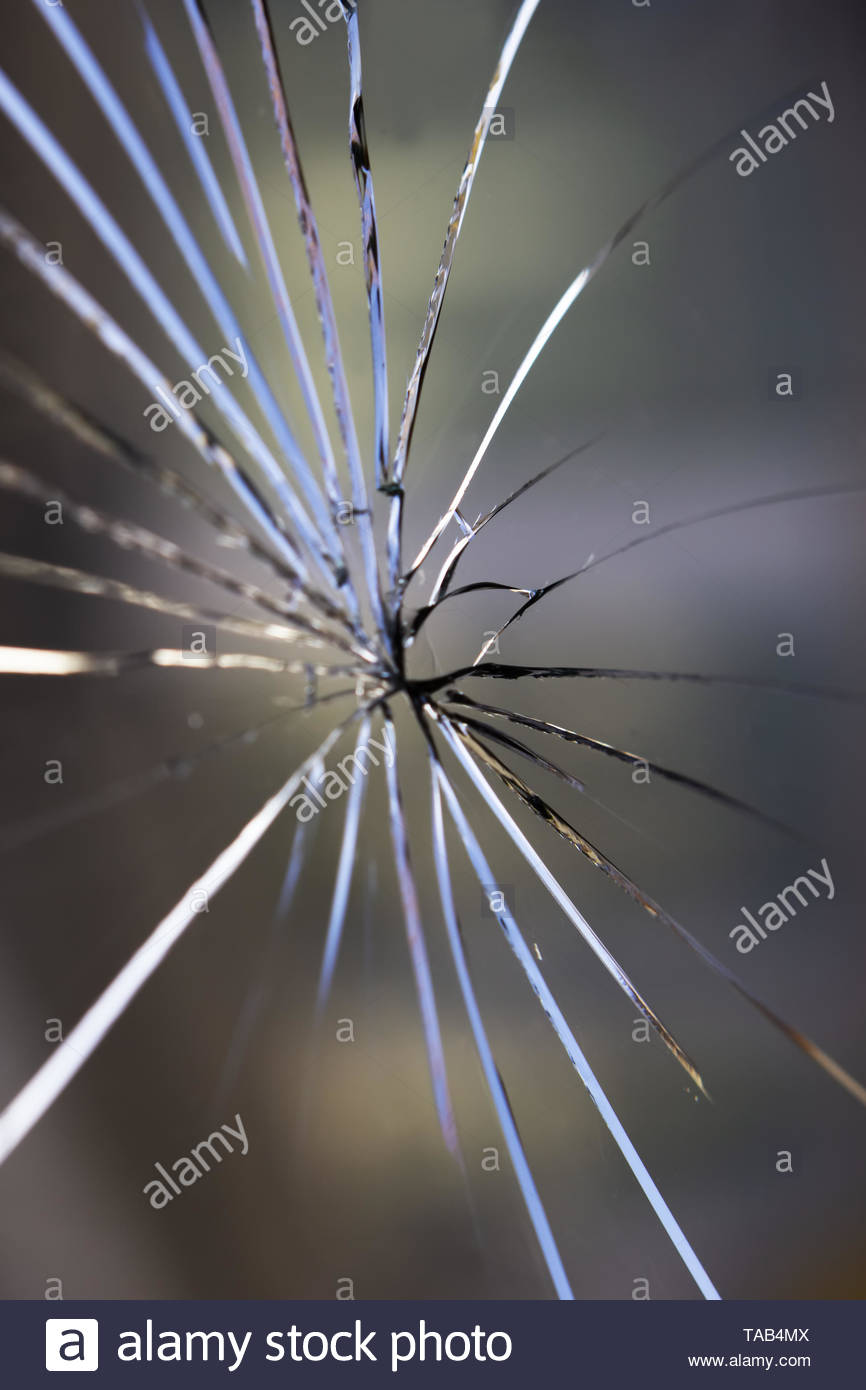crack: (21, 28, 776, 1207)
